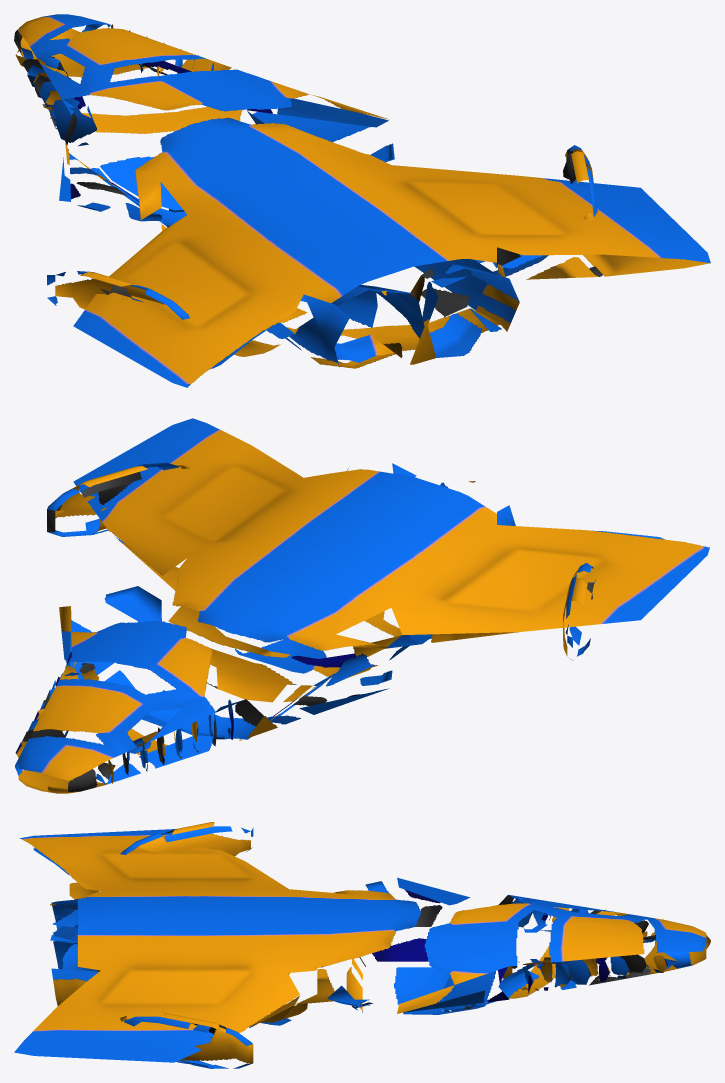
Rendered from Player_Fast.FBX.
The picture shows the model from 3 angles, top to bottom: view 1: azimuth 30°, elevation 25°; view 2: azimuth 150°, elevation 25°; view 3: azimuth 270°, elevation 25°; orthographic projection. The views are drawn at different scales.
Parts seen in each view (by area): view 1: Player_Fast; view 2: Player_Fast; view 3: Player_Fast.
Part boxes in pixels (left/top/right/bottom): Player_Fast: left=14, top=14, right=710, bottom=387; Player_Fast: left=15, top=418, right=709, bottom=793; Player_Fast: left=14, top=822, right=710, bottom=1068.
Bounding box in the file's own units: 4.81 × 0.864 × 6.06.
